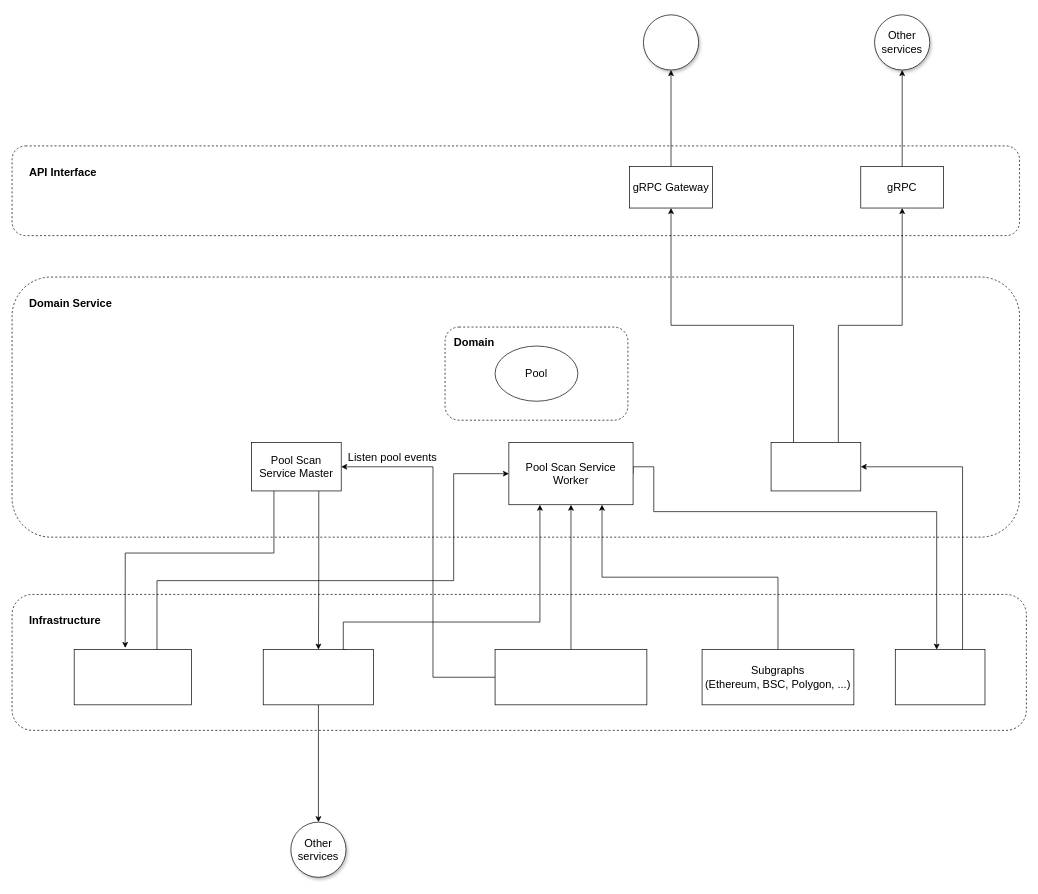
Some shapes in this 1038 by 894 pixel diagram are drawn without their labels. Here are the shapes that lost their labels. From the top down, the centre of each, then its label:
At point 671,43: "Clients".
At point 815,466: "Pool API Service".
At point 132,677: "Tasks queue".
At point 318,677: "Message Broker".
At point 570,677: "RPC Nodes (Ethereum, BSC, Polygon, ...)".
At point 940,677: "Datastore (Redis)".
